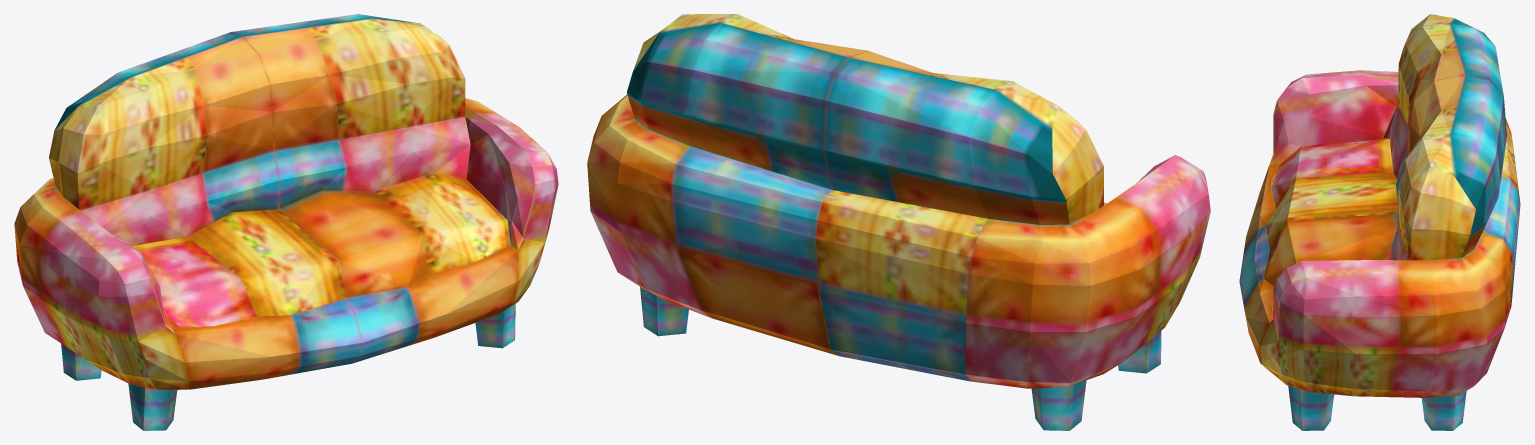
The model's file is rmk_ptw_chairL.dae.
3 renders of one model, left to right at view 1: azimuth 30°, elevation 25°; view 2: azimuth 150°, elevation 25°; view 3: azimuth 270°, elevation 25°, orthographic. The views are drawn at different scales.
Visible parts, largest first — view 1: rmk_ptw_chairL; view 2: rmk_ptw_chairL; view 3: rmk_ptw_chairL.
Part boxes in pixels (left/top/right/bottom): rmk_ptw_chairL: left=14, top=14, right=558, bottom=430; rmk_ptw_chairL: left=587, top=14, right=1210, bottom=430; rmk_ptw_chairL: left=1239, top=14, right=1520, bottom=430.
Size of the model in its own units: 57.53 by 32.95 by 31.03.
1 material, 1 textured.
